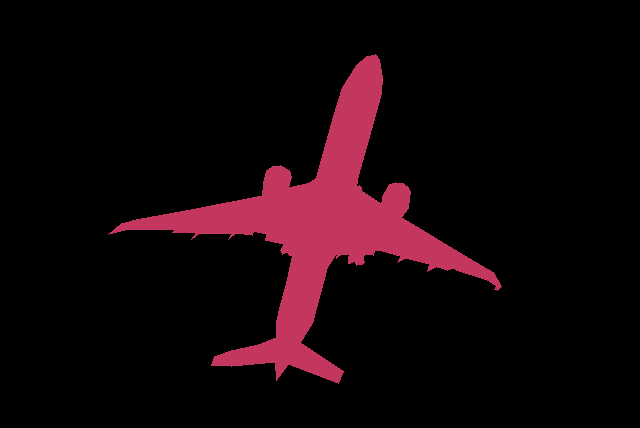Airplane: (108, 54, 501, 383)
